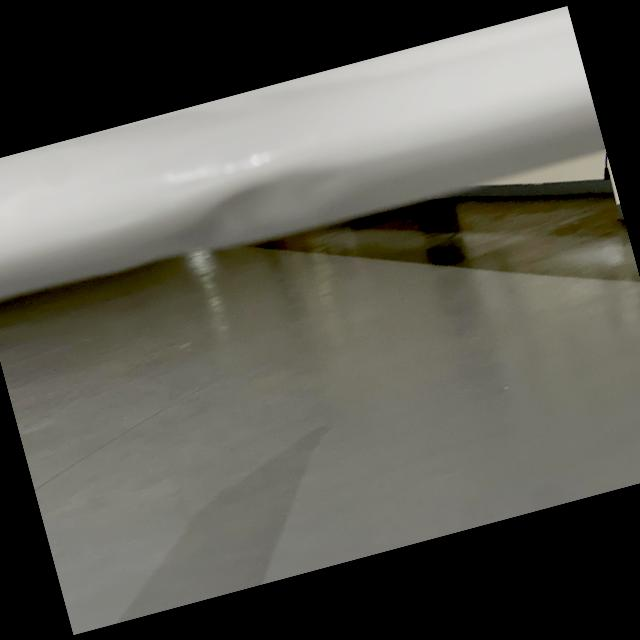dent: (175, 146, 374, 254)
